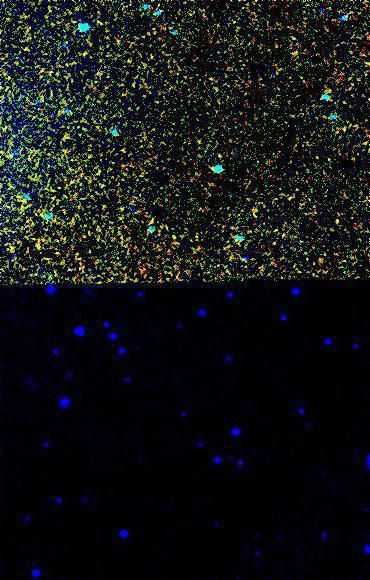star: (283, 33, 313, 63)
